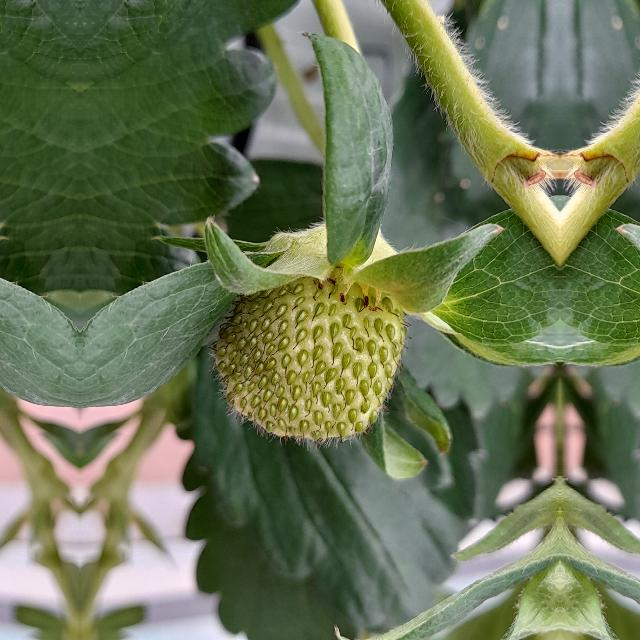Health_25: (212, 269, 406, 441)
